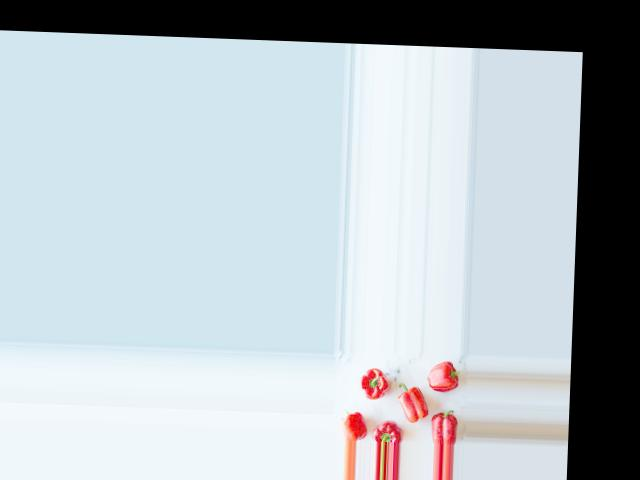bell_pepper: (373, 418, 404, 442)
